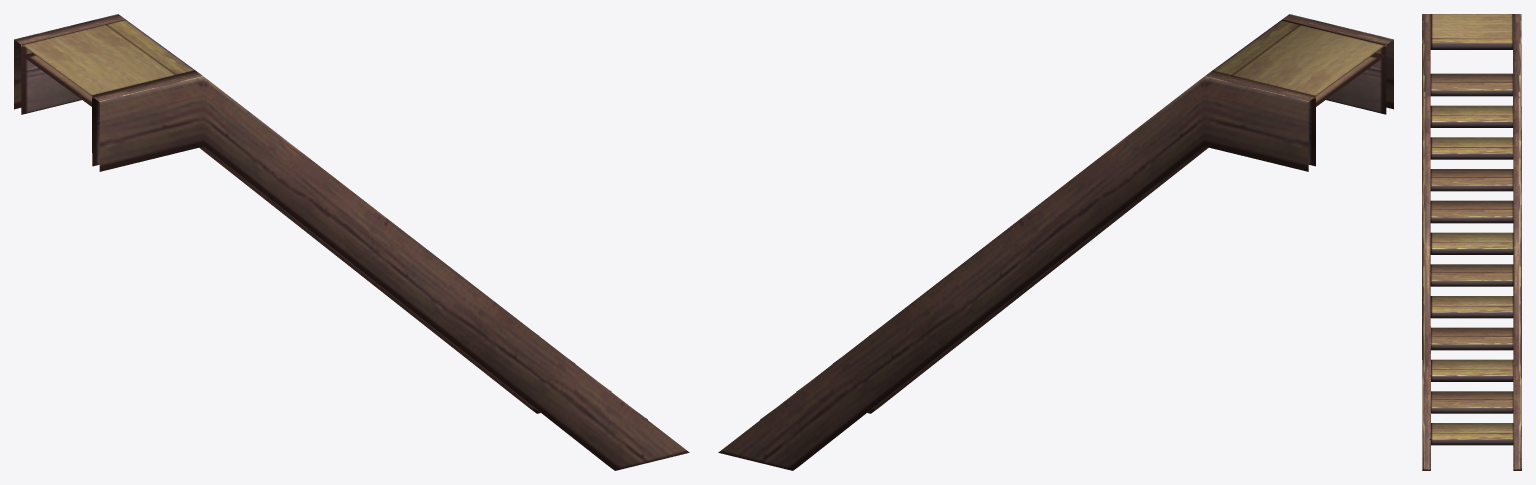
File: jj-louti.FBX
3 views of the same model, side by side, from view 1: azimuth 30°, elevation 25°; view 2: azimuth 150°, elevation 25°; view 3: azimuth 270°, elevation 25° (orthographic). The views are drawn at different scales.
Parts seen in each view (by area): view 1: jj-louti; view 2: jj-louti; view 3: jj-louti.
Boxes of the visible parts, <box> form: jj-louti: <box>14,14,689,470</box>; jj-louti: <box>718,14,1393,470</box>; jj-louti: <box>1422,14,1521,470</box>.
Size of the model in its own units: 348 by 279 by 87.41.
